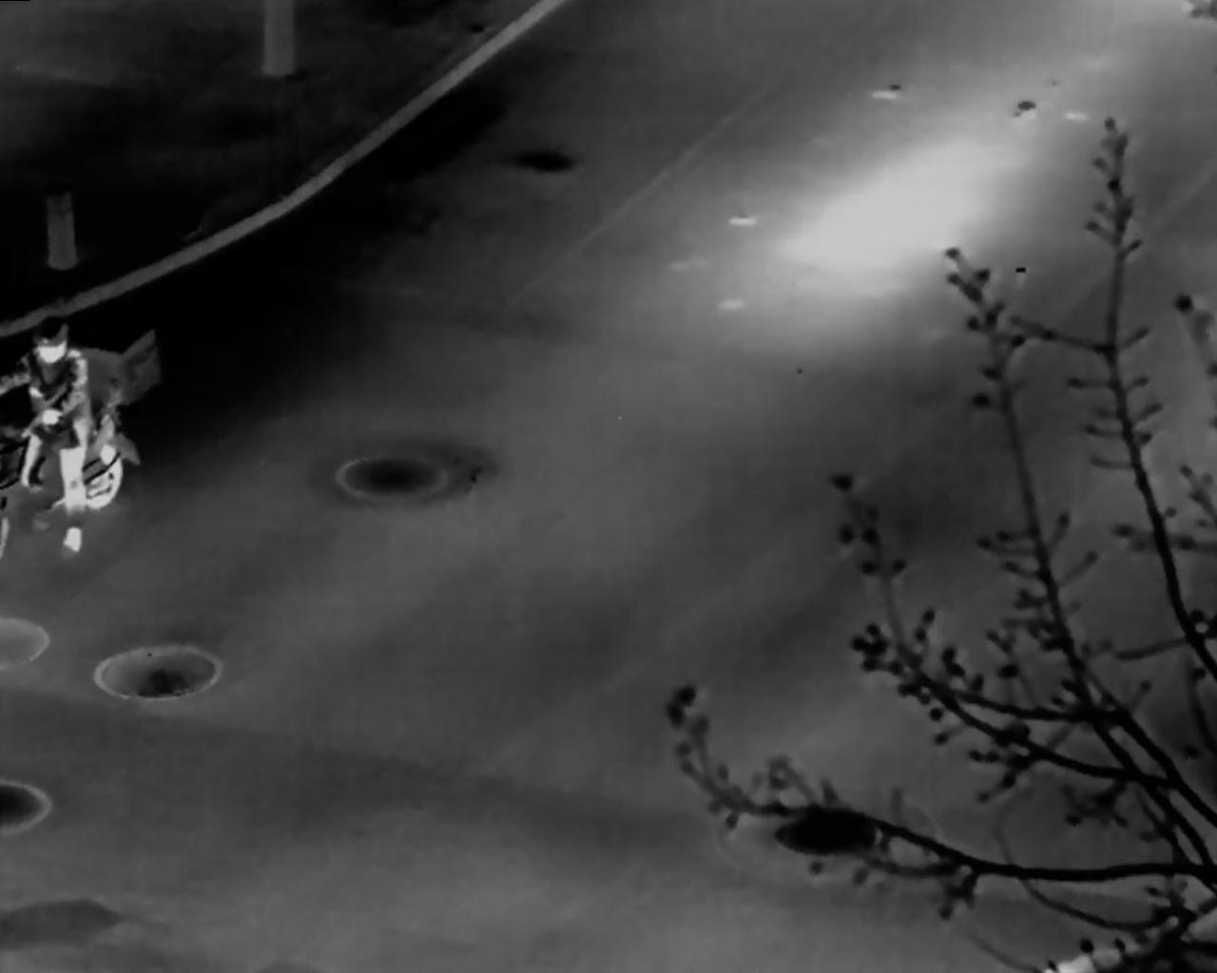person: (2, 315, 92, 554)
